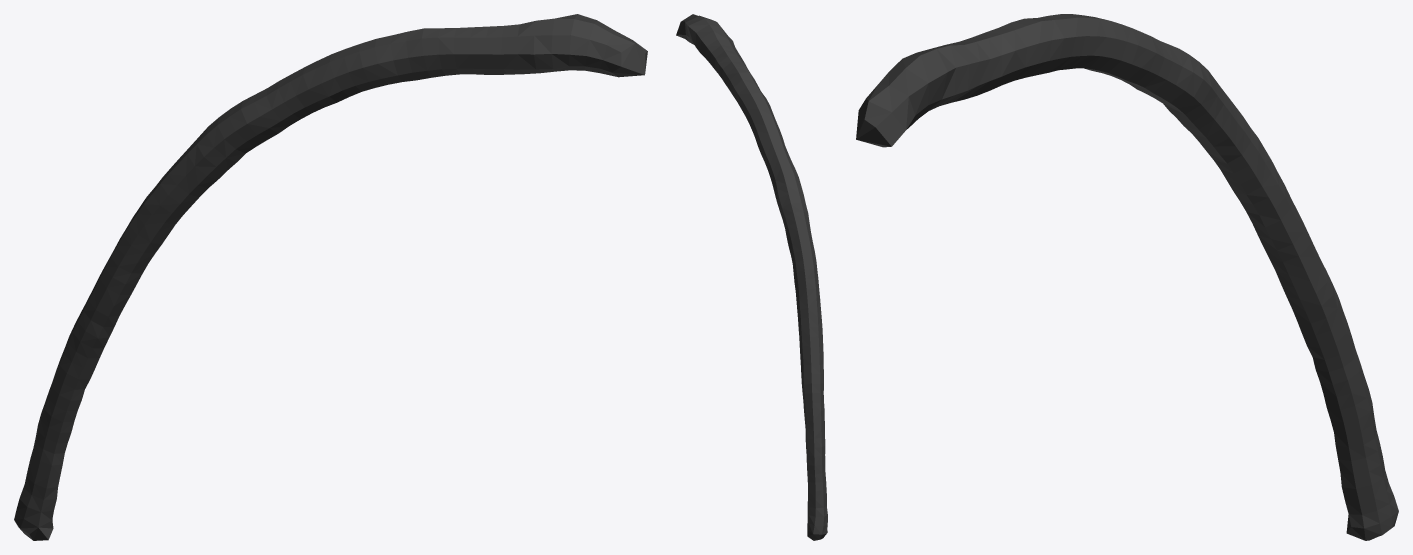
File: Rib_13_R.glb
3 renders of one model, left to right at view 1: azimuth 30°, elevation 25°; view 2: azimuth 150°, elevation 25°; view 3: azimuth 270°, elevation 25°, orthographic. The views are drawn at different scales.
Parts seen in each view (by area): view 1: Rib_13_R; view 2: Rib_13_R; view 3: Rib_13_R.
Part boxes in pixels (left/top/right/bottom): Rib_13_R: left=14, top=14, right=647, bottom=540; Rib_13_R: left=676, top=14, right=827, bottom=540; Rib_13_R: left=856, top=14, right=1398, bottom=540.
Size of the model in its own units: 3.68 by 4.71 by 3.34.
1 material, 1 textured.
